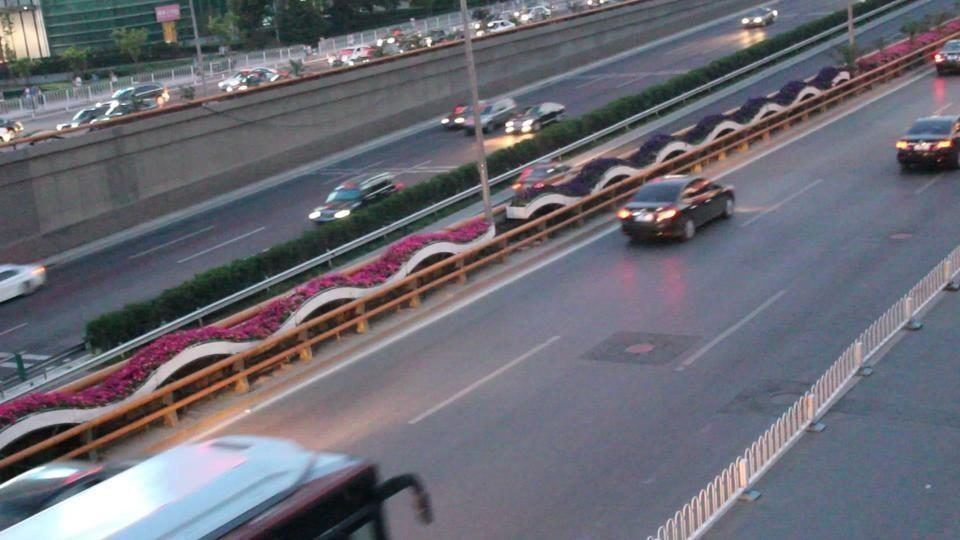car: (2, 433, 434, 536), (507, 156, 643, 223), (615, 173, 736, 244), (309, 169, 400, 225), (894, 115, 960, 172), (441, 98, 517, 135), (505, 102, 567, 138), (0, 263, 49, 304), (56, 104, 114, 133), (109, 83, 170, 109), (227, 68, 286, 91), (218, 71, 266, 95), (931, 38, 960, 76), (740, 5, 778, 29), (476, 17, 517, 36), (248, 66, 291, 82)
